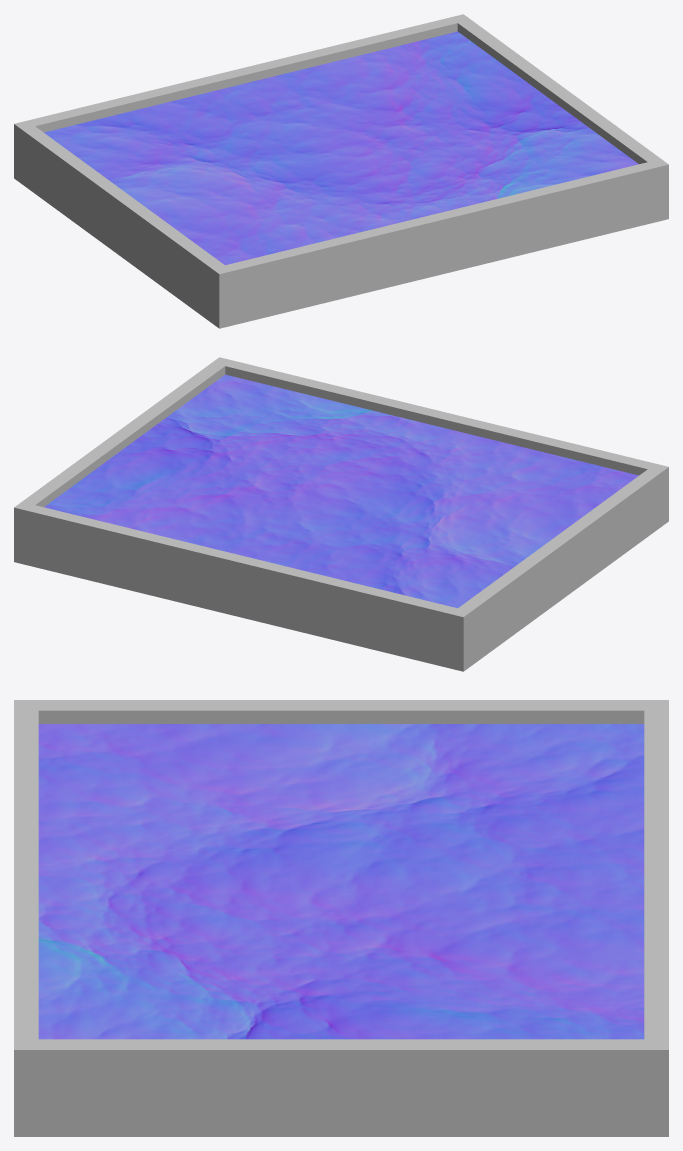
Rendered from Fwater-01.fbx.
The picture shows the model from 3 angles, top to bottom: view 1: azimuth 30°, elevation 25°; view 2: azimuth 150°, elevation 25°; view 3: azimuth 270°, elevation 25°; orthographic projection. The views are drawn at different scales.
Visible parts, largest first — view 1: Fwater-01; view 2: Fwater-01; view 3: Fwater-01.
Boxes of the visible parts, x1=… form: Fwater-01: x1=14, y1=14, x2=668, y2=328; Fwater-01: x1=14, y1=357, x2=668, y2=671; Fwater-01: x1=14, y1=700, x2=668, y2=1136.
Bounding box in the file's own units: 672 × 77.92 × 532.
